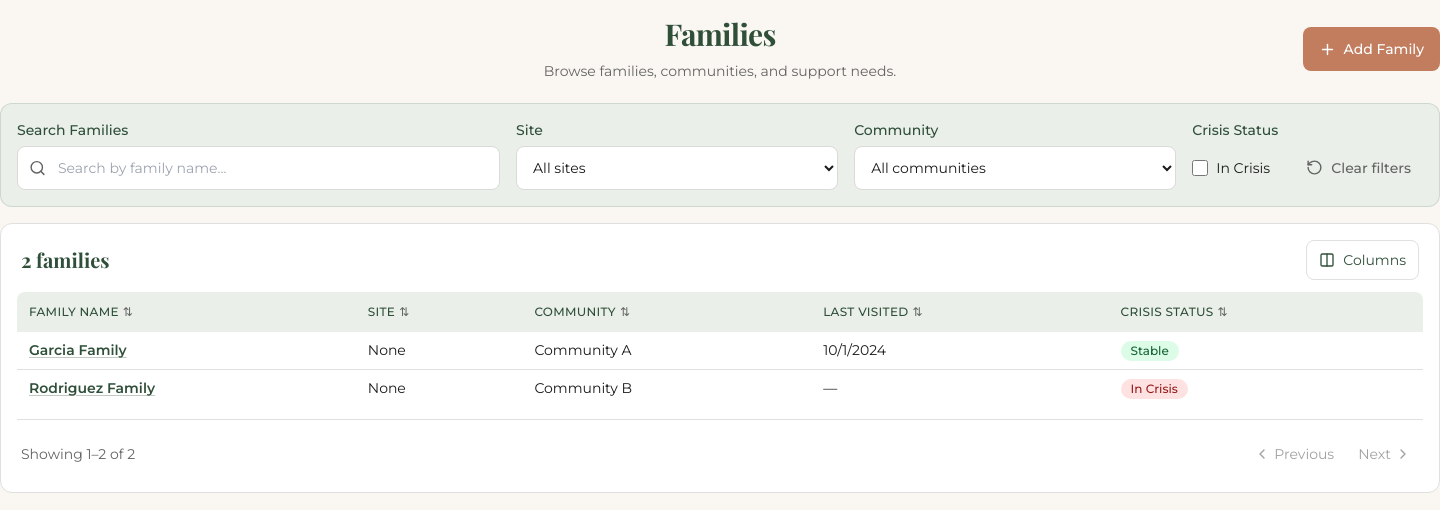
Scenario: FamiliesPage › clears the family search, community, and crisis filter together
This screenshot has width=1440, height=510.
Type "Garcia" into the search field at (259, 168), box [17, 146, 500, 190]
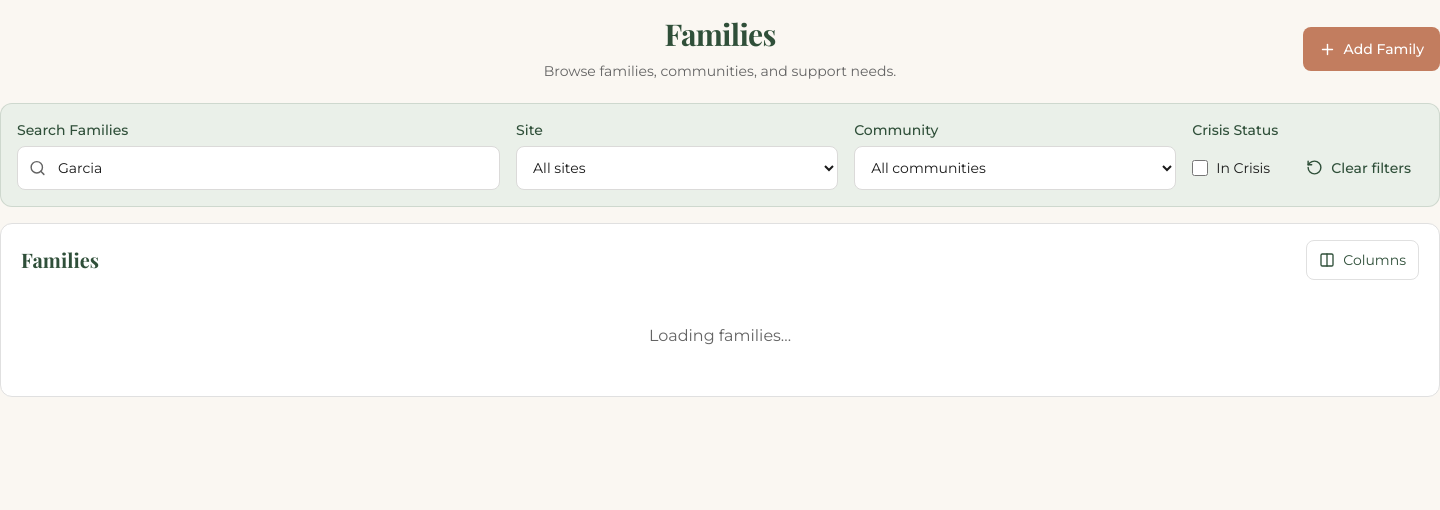
Select "Community A" in the dropdown labelled "Community" at (1015, 168), box [854, 146, 1176, 190]
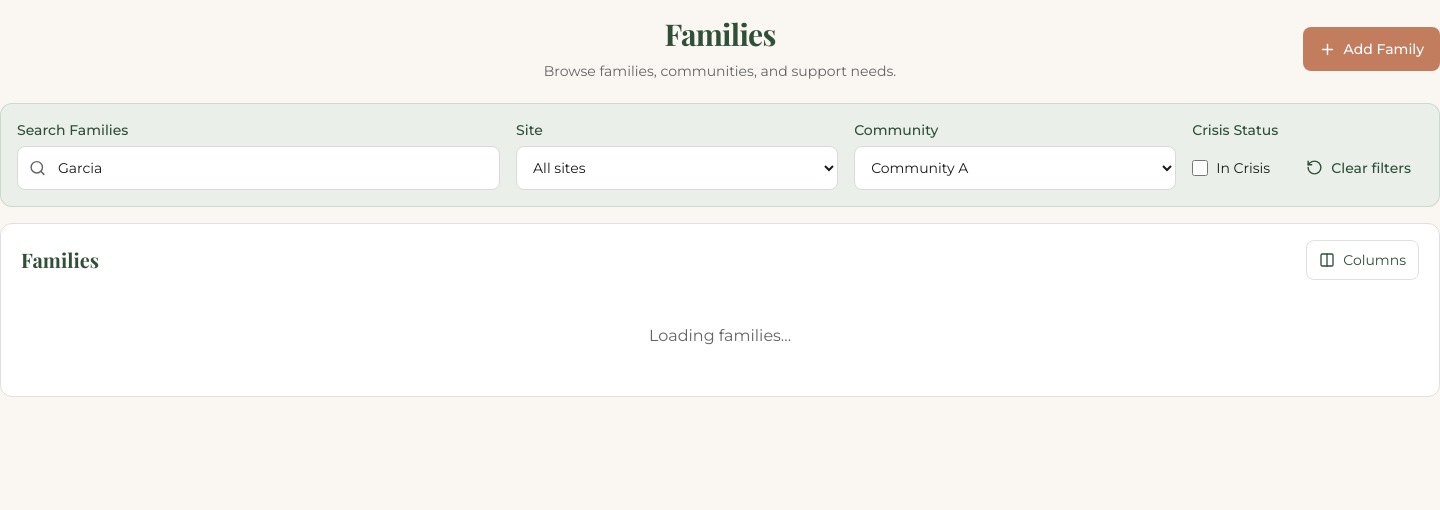
Click the checkbox labelled "In Crisis" at (1200, 168), box [1192, 160, 1208, 176]
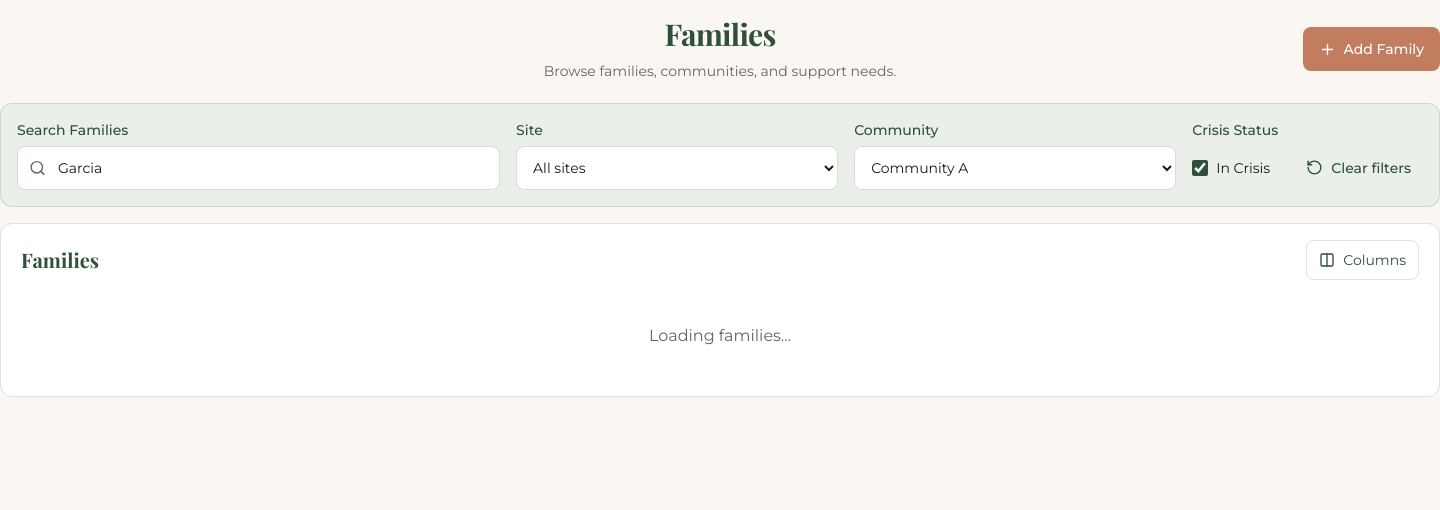
Click the button "Clear filters" at (1359, 168), box [1294, 146, 1423, 190]
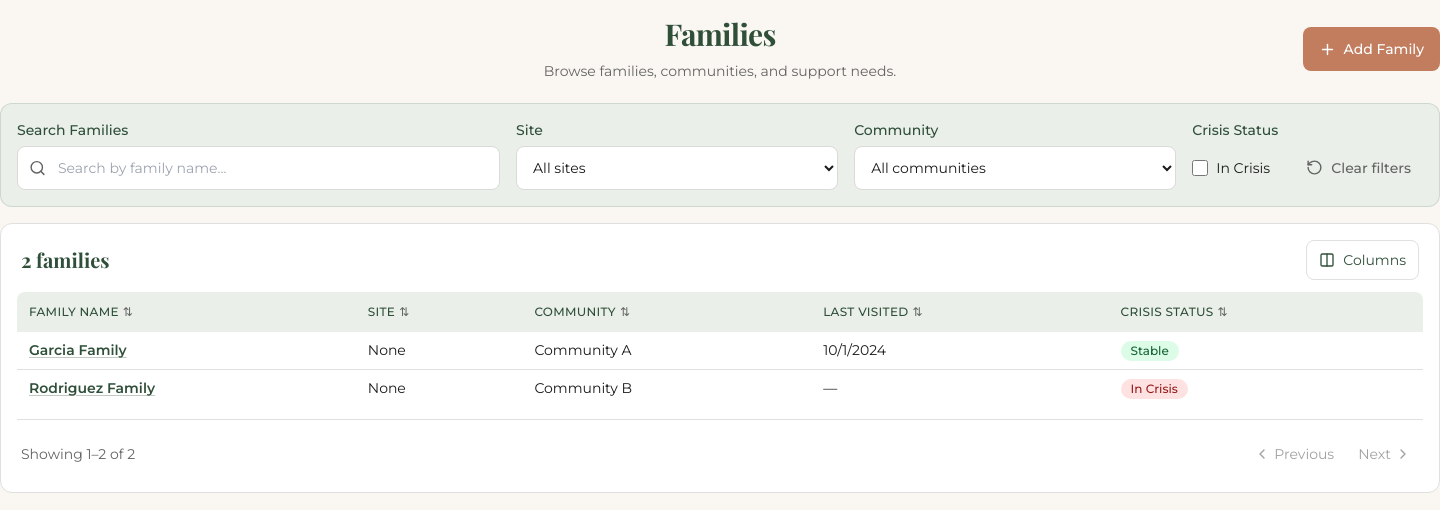
Result: the checkbox labelled "In Crisis" is not checked at [1192, 160, 1208, 176]
Result: the search field is empty at [17, 146, 500, 190]
